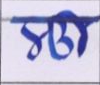i_matra: (64, 9, 88, 55)
